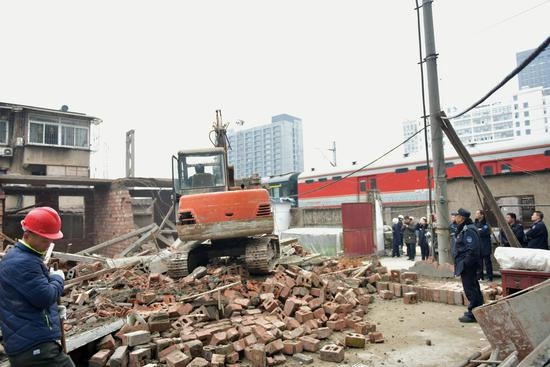none: (454, 207, 469, 224), (529, 210, 543, 223), (504, 211, 516, 225), (474, 208, 485, 221), (403, 215, 410, 223)
red: (17, 204, 66, 253)
